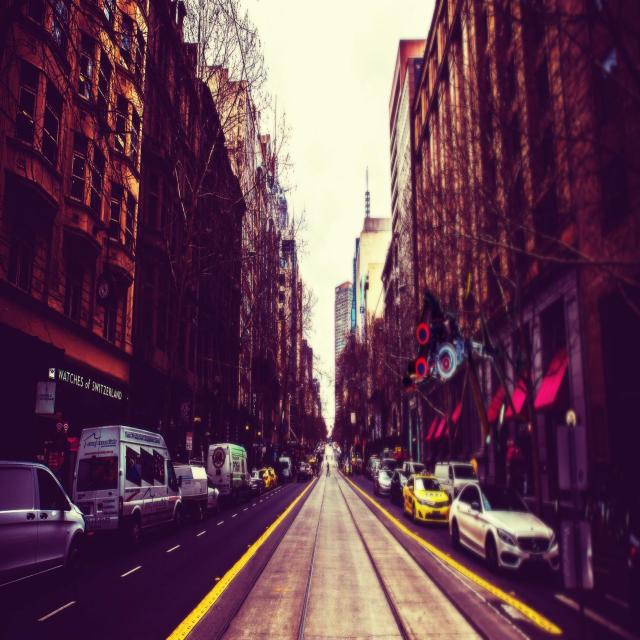airplane: (414, 286, 518, 436)
